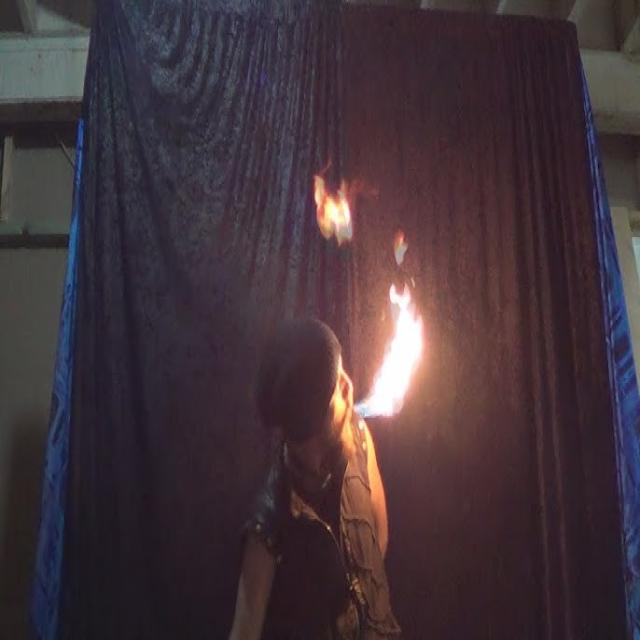fire: (354, 283, 426, 418), (314, 170, 353, 248)
